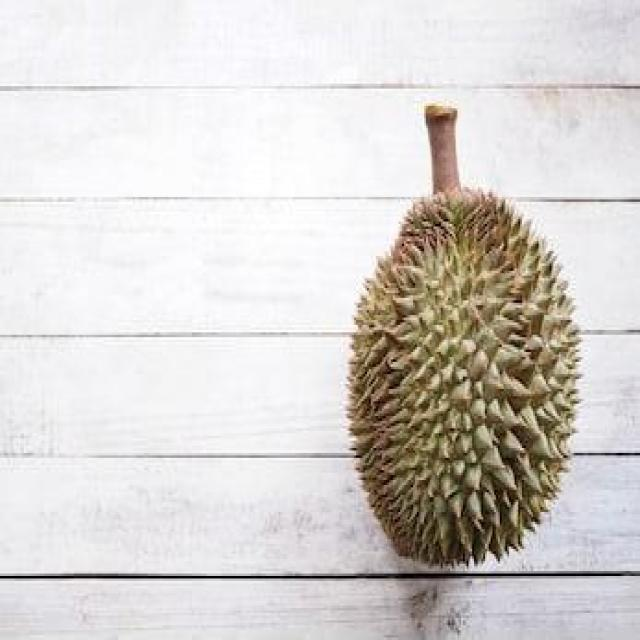mature: (344, 187, 584, 564)
